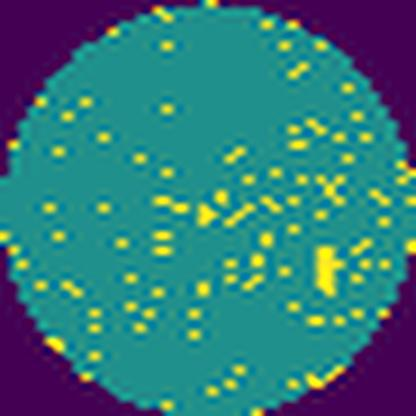Edge-Loc: (315, 243, 343, 298)
